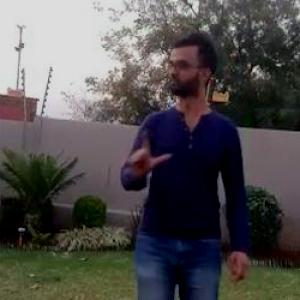land_hand: (122, 126, 174, 184)
